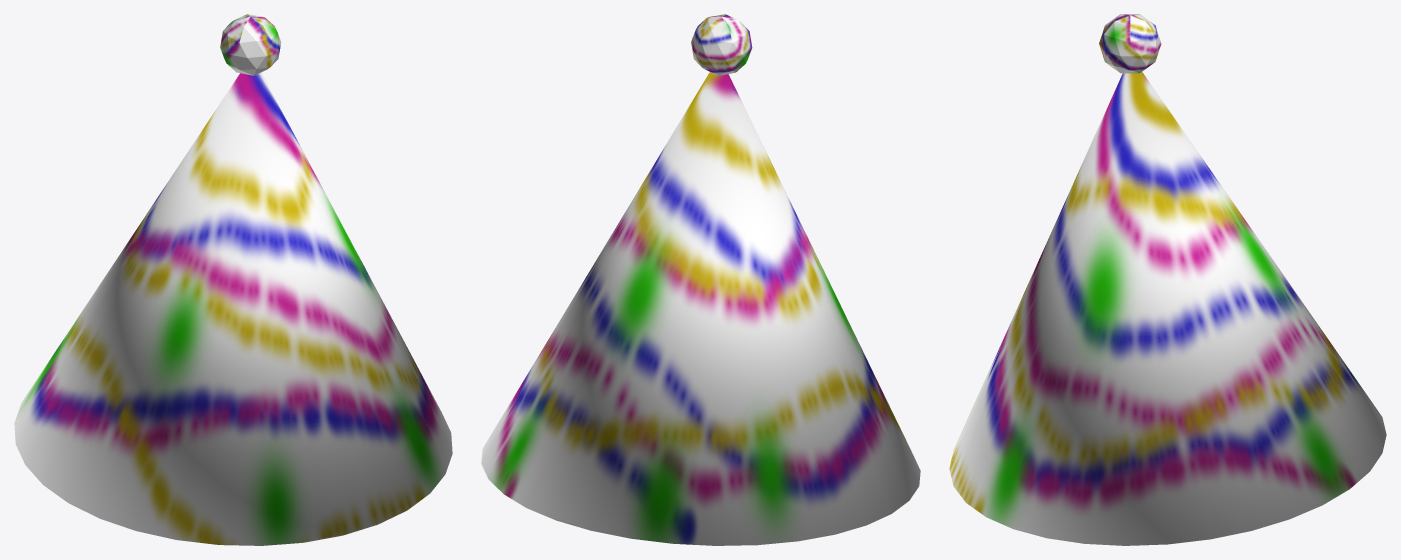
The model's file is model_fete.gltf.
The picture shows the model from 3 angles, left to right: view 1: azimuth 30°, elevation 25°; view 2: azimuth 150°, elevation 25°; view 3: azimuth 270°, elevation 25°; orthographic projection.
Visible parts, largest first — view 1: model_fete; view 2: model_fete; view 3: model_fete.
Part boxes in pixels (x1,y1,x2,y2): model_fete: [14, 14, 452, 545]; model_fete: [481, 14, 920, 545]; model_fete: [949, 14, 1386, 545].
Bounding box in the file's own units: 0.4411 × 0.5016 × 0.4395.
Materials: 1 (1 with a texture image).
